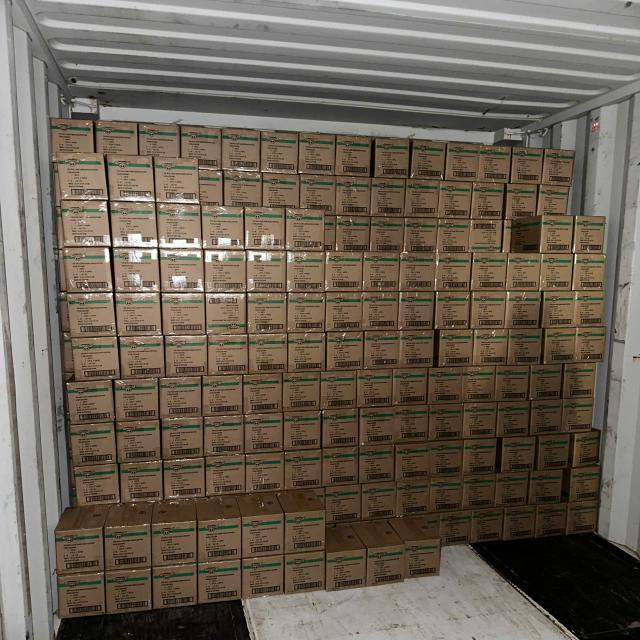Carton: (53, 150, 108, 202), (63, 248, 115, 296), (109, 155, 157, 203), (61, 200, 110, 247), (112, 202, 159, 250), (68, 294, 118, 339), (114, 249, 162, 295), (103, 524, 151, 570), (58, 574, 106, 620), (72, 337, 121, 382), (154, 156, 199, 205), (55, 532, 105, 576), (157, 206, 203, 251), (162, 251, 208, 296), (116, 294, 163, 338), (105, 571, 152, 615), (70, 425, 118, 467), (66, 380, 114, 422), (153, 567, 199, 610), (120, 336, 166, 379), (116, 424, 162, 466), (246, 206, 288, 252), (152, 524, 198, 566), (201, 206, 244, 250), (198, 519, 242, 562), (180, 125, 222, 170), (286, 207, 326, 254), (74, 466, 121, 506), (162, 294, 206, 336), (116, 382, 160, 424), (204, 252, 246, 295), (244, 519, 286, 562), (161, 419, 205, 460), (120, 462, 164, 503), (165, 336, 207, 378), (206, 334, 248, 376), (205, 294, 247, 336), (160, 378, 203, 419), (222, 129, 262, 173), (327, 550, 368, 592), (284, 552, 326, 593), (284, 512, 325, 554), (242, 557, 284, 598), (248, 252, 288, 295), (285, 253, 325, 296), (261, 131, 300, 175), (198, 566, 243, 604), (50, 116, 95, 154), (202, 376, 243, 417), (246, 372, 286, 414), (162, 459, 205, 498), (299, 134, 337, 178), (249, 294, 289, 335), (286, 294, 326, 335), (203, 417, 244, 457), (367, 545, 405, 588), (95, 120, 140, 156), (205, 456, 245, 496), (250, 335, 290, 375), (244, 415, 284, 455), (326, 254, 365, 295), (138, 122, 181, 159), (328, 332, 366, 373), (374, 138, 410, 181), (245, 454, 284, 493), (285, 412, 323, 452), (404, 538, 441, 579), (337, 137, 372, 180), (321, 409, 359, 448), (288, 334, 327, 372), (327, 294, 364, 334), (282, 374, 320, 412), (300, 179, 338, 217), (436, 292, 473, 331), (400, 292, 436, 332), (472, 291, 508, 331), (224, 171, 264, 207), (358, 408, 394, 448), (411, 141, 445, 183), (399, 331, 436, 369), (284, 452, 322, 489), (437, 331, 475, 368), (363, 256, 400, 294), (364, 331, 400, 370), (336, 217, 372, 256), (320, 374, 357, 411), (472, 256, 509, 293), (322, 450, 359, 487), (364, 294, 400, 332), (360, 482, 396, 520), (392, 370, 428, 408), (360, 446, 396, 484), (508, 292, 543, 331), (372, 181, 407, 220), (327, 486, 363, 523), (437, 255, 472, 293), (498, 438, 536, 473), (508, 216, 543, 254), (444, 142, 477, 182), (474, 331, 510, 367), (370, 219, 406, 255), (509, 330, 544, 367), (396, 444, 431, 481), (405, 219, 439, 257), (264, 174, 302, 208), (508, 255, 542, 293), (462, 404, 497, 440), (337, 182, 372, 218), (430, 443, 465, 479), (394, 407, 428, 444), (544, 293, 578, 330), (528, 472, 565, 506), (439, 509, 473, 546), (472, 183, 505, 221), (540, 255, 573, 293), (440, 183, 473, 221), (572, 255, 604, 294), (536, 436, 570, 472), (496, 403, 530, 439), (506, 184, 540, 220), (544, 330, 578, 366), (462, 440, 496, 476), (529, 399, 563, 435), (542, 218, 575, 255), (430, 408, 465, 442), (357, 375, 392, 409), (429, 372, 464, 406), (400, 261, 437, 293), (575, 219, 607, 256), (528, 367, 562, 401), (469, 220, 503, 254), (562, 367, 596, 401), (463, 371, 497, 405), (495, 474, 529, 508), (461, 477, 495, 511), (439, 220, 472, 255), (496, 369, 531, 402), (407, 186, 440, 221), (541, 153, 574, 187), (563, 398, 595, 433), (568, 467, 600, 502), (431, 481, 464, 514), (504, 509, 538, 541), (398, 483, 432, 515), (574, 330, 605, 365), (512, 153, 544, 186), (479, 153, 512, 185), (537, 186, 570, 218), (472, 511, 505, 543), (536, 506, 568, 538), (566, 505, 598, 536), (574, 296, 604, 329), (198, 167, 223, 206), (573, 435, 600, 469)
